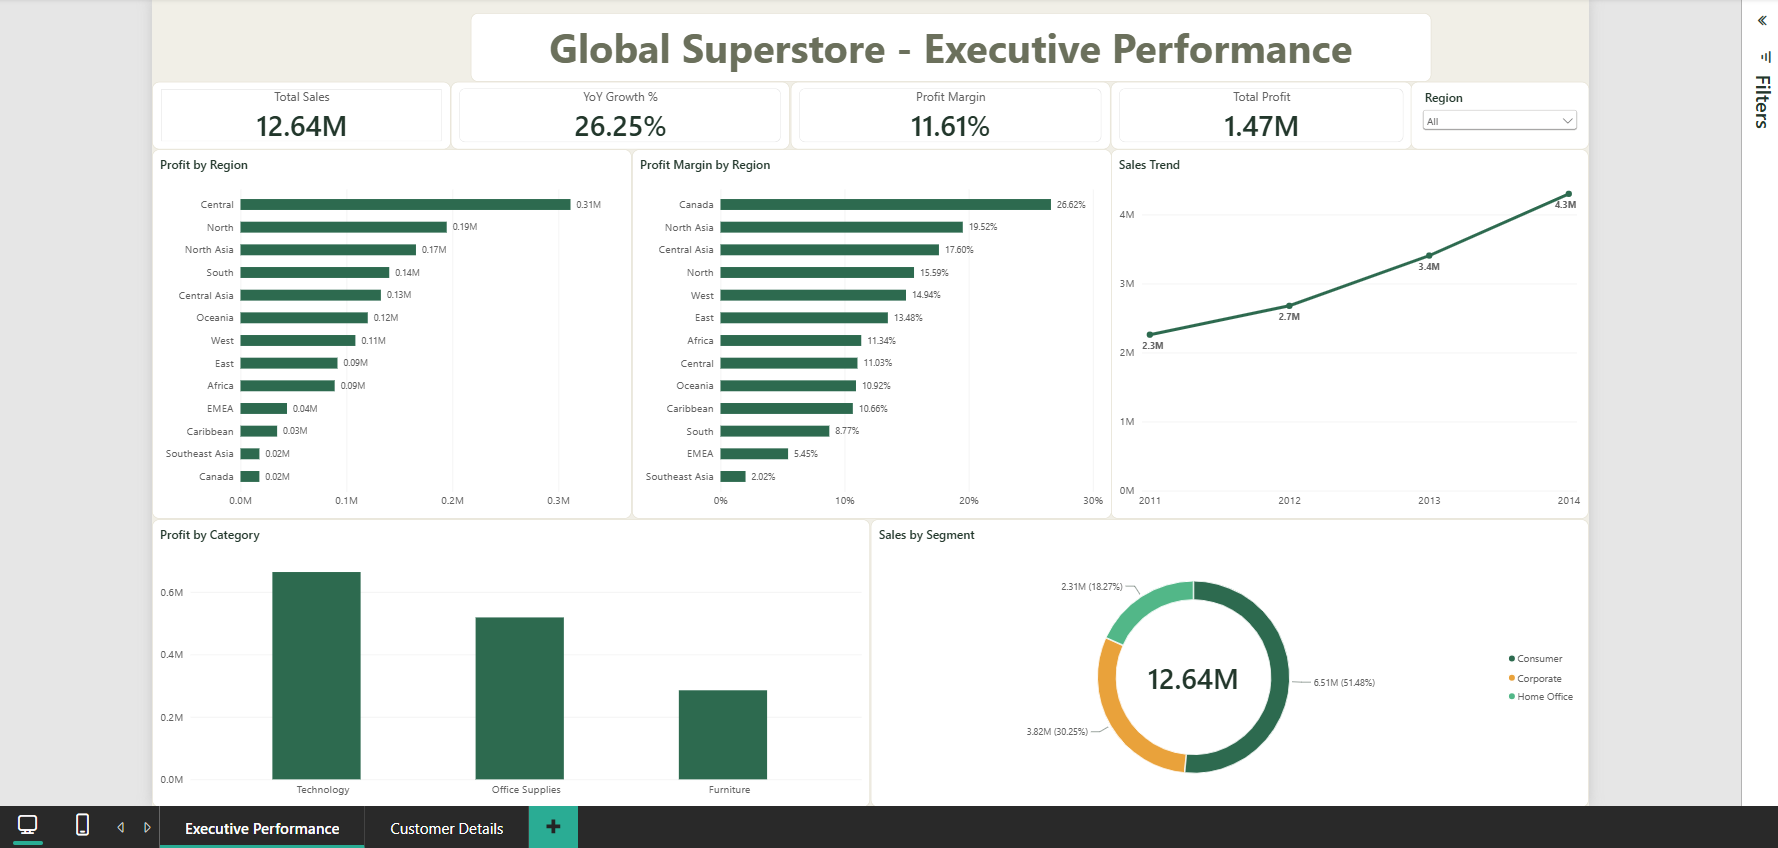

The dashboard page shown, as its layout file describes it:
{"tool":"powerbi","page":{"name":"Executive Performance","canvas":[1920,1080],"ordinal":0},"visuals":[{"type":"cardVisual","fields":{"Data":["Sum(Sales.Sales)"]},"box":[0,112.3,399.4,90.2],"z":0},{"type":"barChart","title":"Profit by Region","fields":{"Category":["Sales.Region"],"Y":["Sum(Sales.Profit)"]},"box":[0,202.5,640.5,493.3],"z":1000},{"type":"clusteredColumnChart","title":"Profit by Category","fields":{"Category":["Sales.Category"],"Y":["Sum(Sales.Profit)"]},"box":[0,695.7,958.9,384.7],"z":2000},{"type":"cardVisual","fields":{"Data":["Sum(Sales.Profit)"]},"box":[1280,112,402,90],"z":3000},{"type":"lineChart","title":"Sales Trend","fields":{"Category":["Sales.Order_Date.Variation.Date Hierarchy.Year","Sales.Order_Date.Variation.Date Hierarchy.Quarter","Sales.Order_Date.Variation.Date Hierarchy.Month","Sales.Order_Date.Variation.Date Hierarchy.Day"],"Y":["Sum(Sales.Sales)"]},"box":[1281,202.5,638.7,493.3],"z":4000},{"type":"donutChart","title":"Sales by Segment","fields":{"Category":["Sales.Segment"],"Y":["Sum(Sales.Sales)"]},"box":[960.7,695.7,958.9,384.7],"z":5000},{"type":"slicer","fields":{"Values":["Sales.Region"]},"box":[1682,112,238,90],"z":6000},{"type":"cardVisual","fields":{"Data":["Sales.Profit Margin"]},"box":[852.7,112.3,427,90.2],"z":7000},{"type":"textbox","box":[425.2,20.2,1282.8,92],"z":8000},{"type":"barChart","title":"Profit Margin by Region","fields":{"Category":["Sales.Region"],"Y":["Sales.Profit Margin"]},"box":[640.5,202.5,640.5,493.3],"z":9000},{"type":"cardVisual","fields":{"Data":["Sales.YoY Growth %"]},"box":[399.7,112.3,452.8,90.2],"z":9001}]}

Visuals, with their boxes on the page's 1920x1080 design canvas (x1, y1, x2, y2). These are canvas units, not pixel positions in the 1778x848 screenshot, which may show the page scaled, cropped or inside an application window:
cardVisual - Sum(Sales.Sales): (x1=0, y1=112, x2=399, y2=202)
"Profit by Region" barChart: (x1=0, y1=202, x2=640, y2=696)
"Profit by Category" clusteredColumnChart: (x1=0, y1=696, x2=959, y2=1080)
cardVisual - Sum(Sales.Profit): (x1=1280, y1=112, x2=1682, y2=202)
"Sales Trend" lineChart: (x1=1281, y1=202, x2=1920, y2=696)
"Sales by Segment" donutChart: (x1=961, y1=696, x2=1920, y2=1080)
slicer - Sales.Region: (x1=1682, y1=112, x2=1920, y2=202)
cardVisual - Sales.Profit Margin: (x1=853, y1=112, x2=1280, y2=202)
textbox: (x1=425, y1=20, x2=1708, y2=112)
"Profit Margin by Region" barChart: (x1=640, y1=202, x2=1281, y2=696)
cardVisual - Sales.YoY Growth %: (x1=400, y1=112, x2=852, y2=202)
